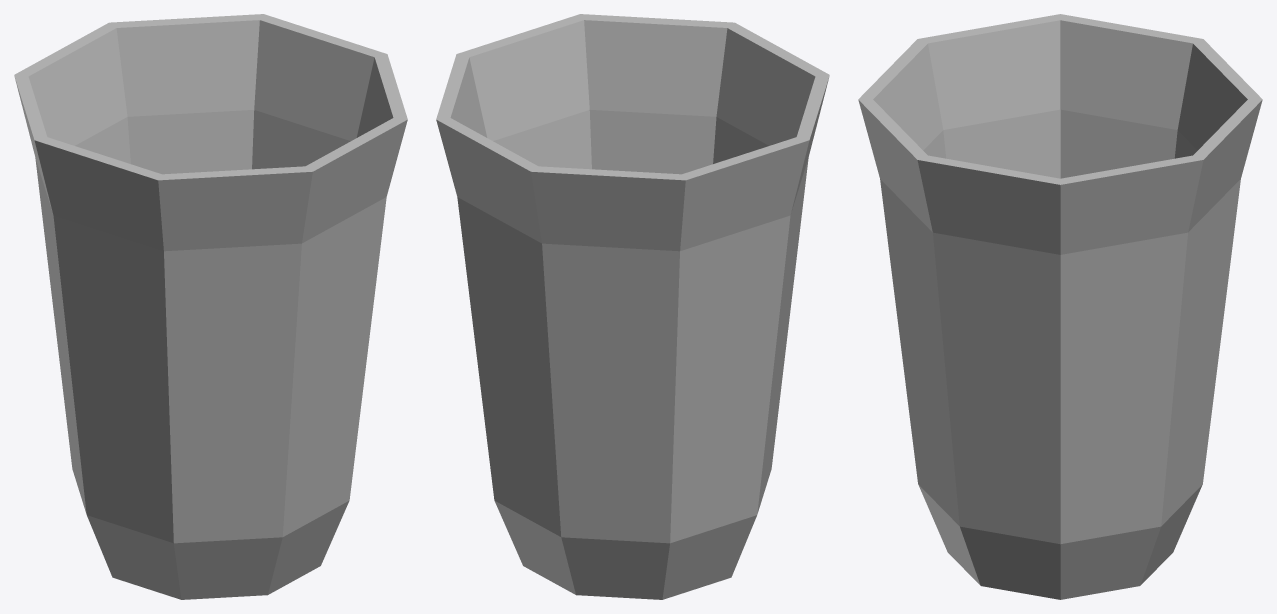
File: Glas.fbx
3 views of the same model, side by side, from view 1: azimuth 30°, elevation 25°; view 2: azimuth 150°, elevation 25°; view 3: azimuth 270°, elevation 25° (orthographic).
Parts seen in each view (by area): view 1: Cylinder.009; view 2: Cylinder.009; view 3: Cylinder.009.
Boxes of the visible parts, x1,y1,x2,y2 form: Cylinder.009: (14, 14, 407, 599); Cylinder.009: (436, 14, 829, 599); Cylinder.009: (858, 14, 1262, 599).
Bounding box in the file's own units: 17.61 × 21.75 × 17.61.
